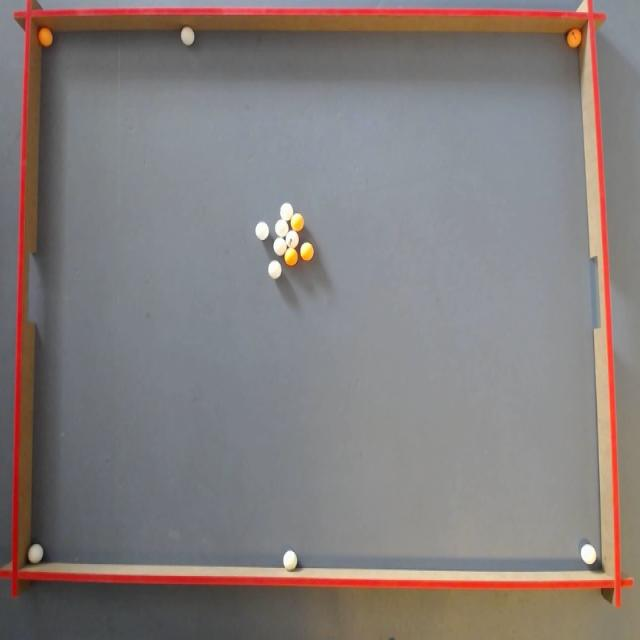orange_ball: (566, 28, 582, 48), (300, 242, 314, 260), (284, 248, 298, 266), (291, 213, 304, 231), (40, 28, 51, 46)
white_ball: (580, 543, 596, 565), (28, 544, 44, 564), (283, 550, 297, 570), (255, 222, 269, 240), (181, 27, 194, 45), (268, 260, 281, 278), (280, 202, 293, 220), (274, 237, 286, 256), (276, 219, 288, 237), (286, 230, 298, 248)
